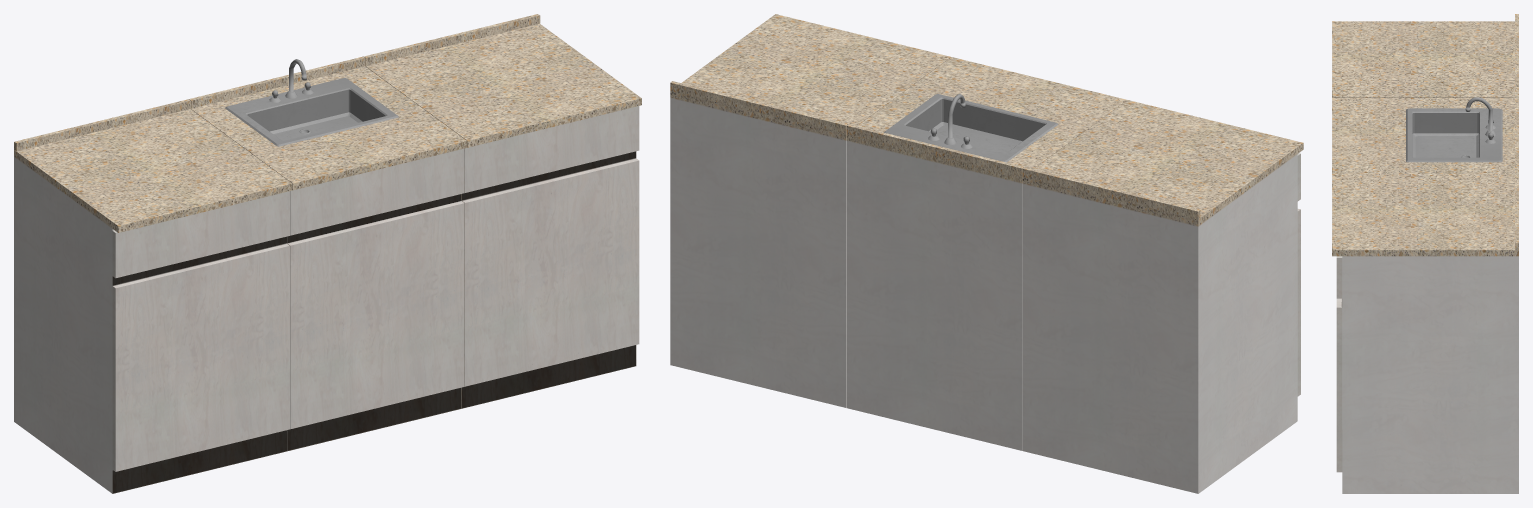
The model's file is Sideboard Kitchen.fbx.
3 renders of one model, left to right at view 1: azimuth 30°, elevation 25°; view 2: azimuth 150°, elevation 25°; view 3: azimuth 270°, elevation 25°, orthographic. The views are drawn at different scales.
Visible parts, largest first — view 1: Aparador_Final.001, Aparador_Final, AparadorConFregadero_Final; view 2: Aparador_Final.001, Aparador_Final, AparadorConFregadero_Final; view 3: Aparador_Final, AparadorConFregadero_Final, Aparador_Final.001.
Boxes of the visible parts, left/top/right/bottom form: Aparador_Final.001: left=14, top=99, right=292, bottom=493; Aparador_Final: left=363, top=14, right=641, bottom=408; AparadorConFregadero_Final: left=188, top=56, right=467, bottom=451; Aparador_Final.001: left=1022, top=100, right=1303, bottom=493; Aparador_Final: left=670, top=14, right=950, bottom=407; AparadorConFregadero_Final: left=846, top=57, right=1126, bottom=450; Aparador_Final: left=1332, top=166, right=1518, bottom=493; AparadorConFregadero_Final: left=1332, top=90, right=1518, bottom=173; Aparador_Final.001: left=1332, top=14, right=1518, bottom=97.
Size of the model in its own units: 90.5 by 51.93 by 31.19.
